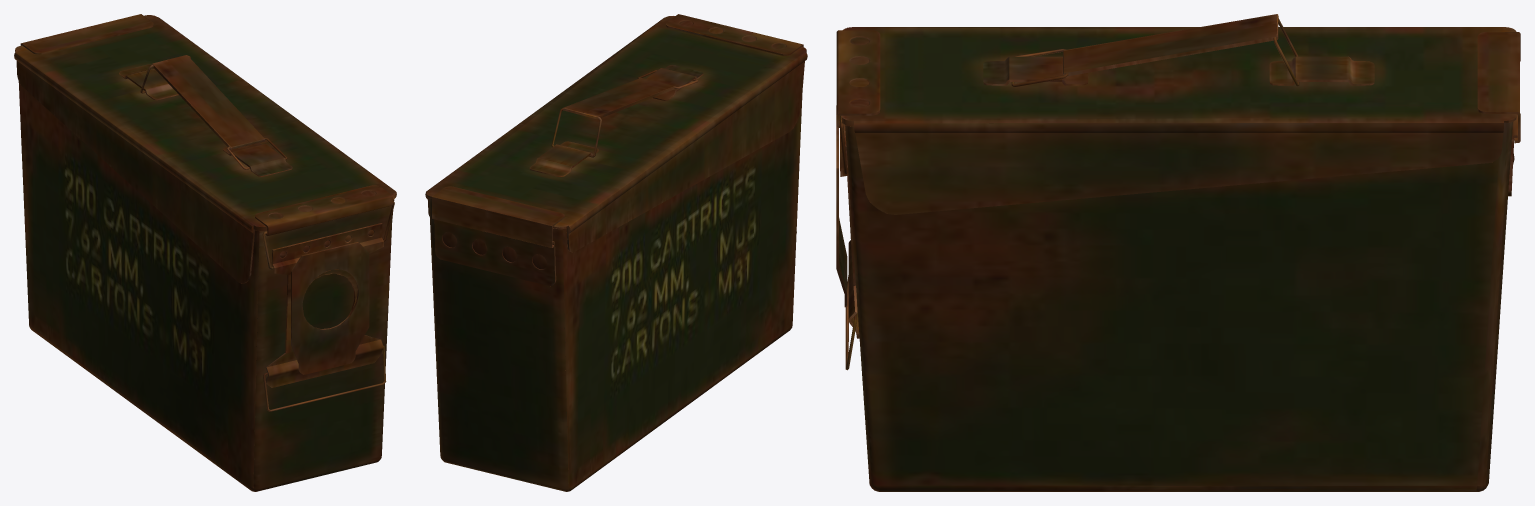
Rendered from municao.glb.
3 renders of one model, left to right at view 1: azimuth 30°, elevation 25°; view 2: azimuth 150°, elevation 25°; view 3: azimuth 270°, elevation 25°, orthographic. The views are drawn at different scales.
Visible parts, largest first — view 1: Malha; view 2: Malha; view 3: Malha.
Boxes of the visible parts, x1=… form: Malha: x1=14, y1=14, x2=396, y2=491; Malha: x1=425, y1=14, x2=807, y2=491; Malha: x1=836, y1=14, x2=1520, y2=491.
Size of the model in its own units: 0.0671 by 0.1376 by 0.2.
1 material, 1 textured.
